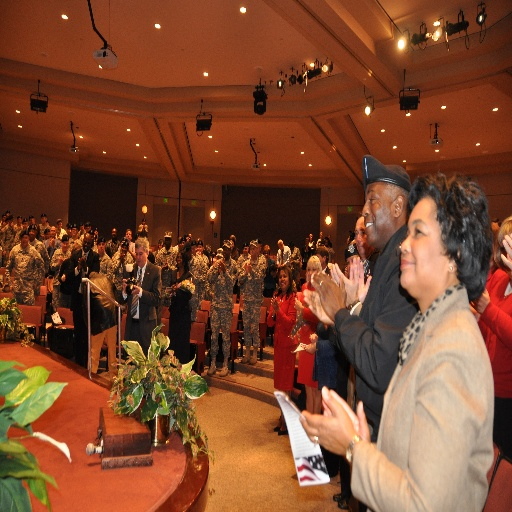hand: (312, 396, 376, 463), (309, 271, 347, 320), (322, 384, 358, 431), (330, 260, 359, 304), (304, 288, 335, 327), (349, 254, 372, 302), (469, 288, 490, 313), (499, 234, 511, 268), (470, 301, 479, 322), (304, 340, 316, 354), (122, 276, 130, 293), (77, 256, 87, 269), (131, 281, 141, 293), (77, 254, 84, 271), (270, 296, 279, 309), (216, 260, 226, 271), (293, 297, 301, 308), (507, 254, 511, 276), (272, 295, 276, 314), (310, 332, 318, 341), (32, 282, 38, 292), (170, 281, 178, 287), (245, 262, 249, 274), (3, 222, 8, 230), (57, 256, 61, 266), (61, 271, 65, 281), (217, 264, 221, 274), (162, 261, 167, 268), (249, 261, 252, 272), (1, 250, 6, 256), (121, 252, 124, 262), (48, 238, 51, 247), (9, 284, 13, 290), (10, 221, 14, 227), (50, 238, 54, 244), (277, 262, 280, 268), (305, 246, 308, 252), (196, 250, 200, 254), (211, 290, 214, 295), (282, 261, 285, 266), (119, 252, 122, 256), (142, 223, 145, 227), (128, 243, 129, 252)
